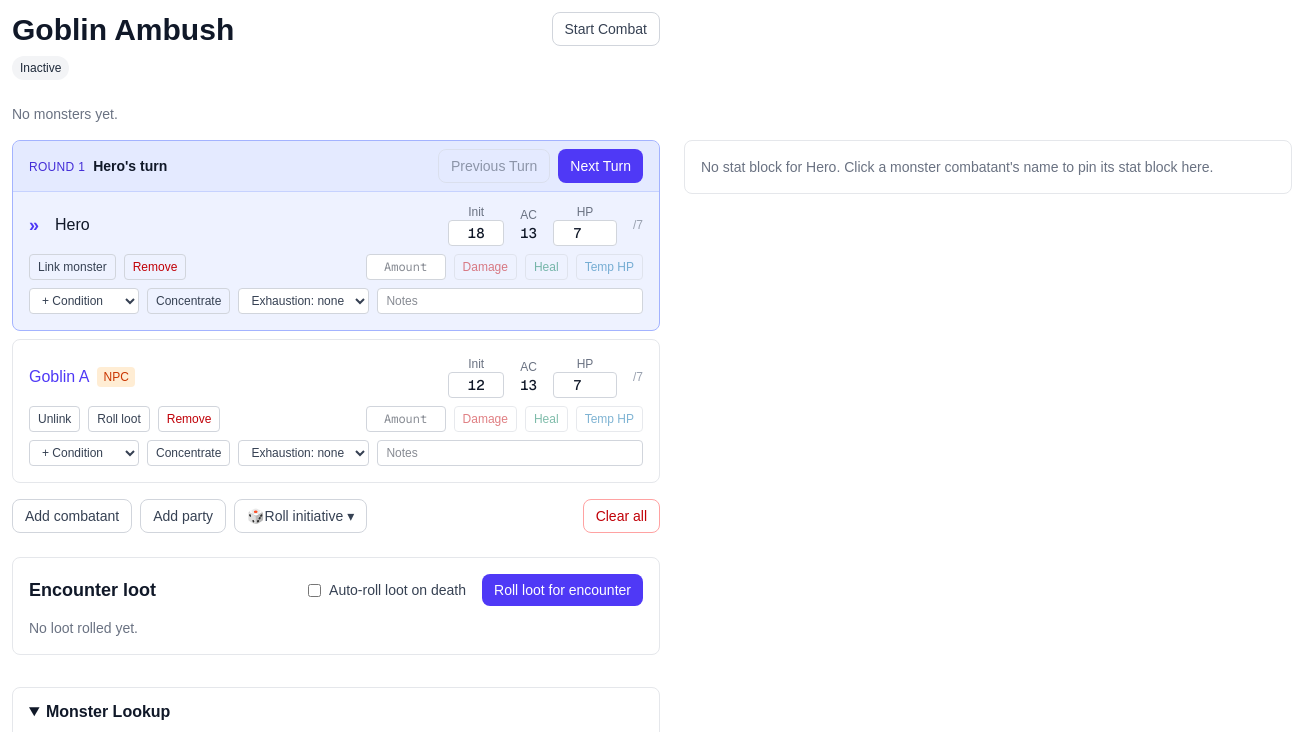
Test case: live-combat layout (VEG-384) › peeks a card as a quick reference without changing the turn, and returns on demand
Check: the heading "Goblin Ambush" is shown, box x1=12 y1=12 x2=234 y2=48
Check: the text "quick reference" is not shown
# Peek the goblin's stat block.
Click the button "Goblin A".
click(59, 377)  # box x1=29 y1=365 x2=90 y2=389
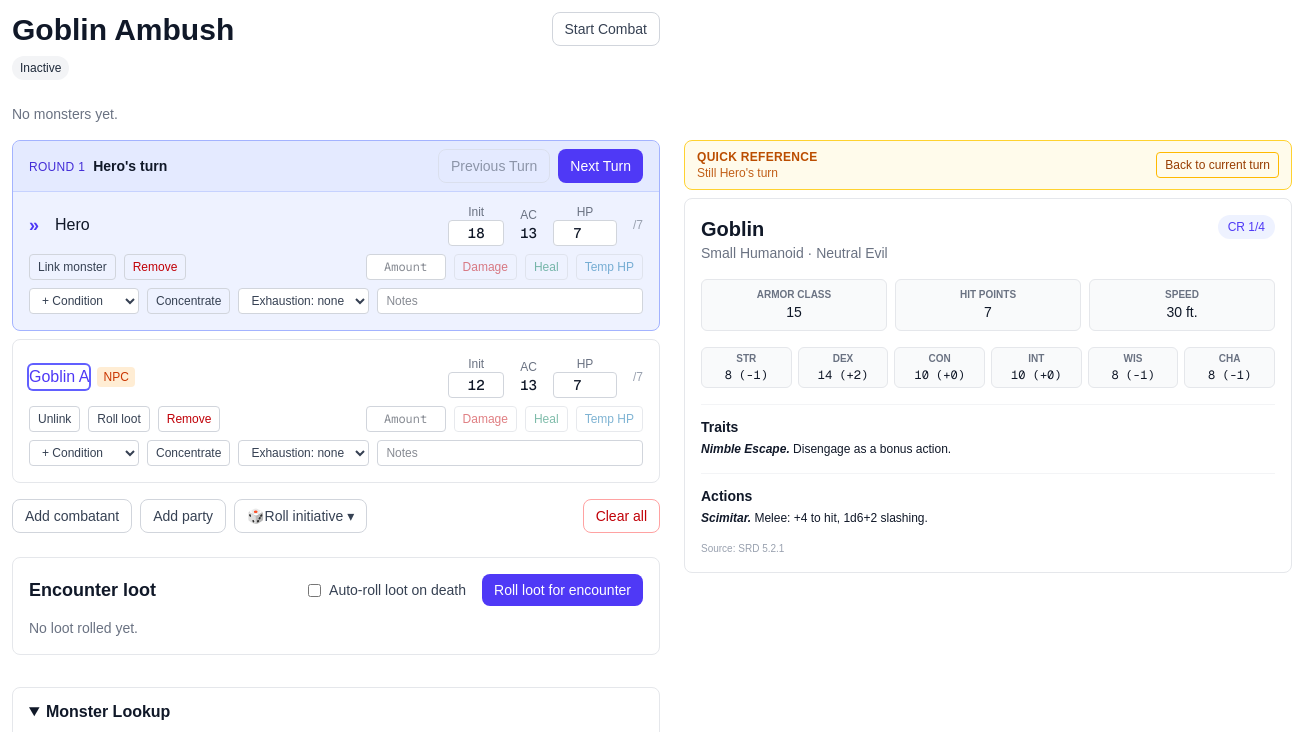
Check: the text "Nimble Escape." is shown, box x1=701 y1=442 x2=790 y2=456
Check: the text "Quick reference" is shown, box x1=697 y1=149 x2=818 y2=165
Check: the text "Still Hero's turn" is shown, box x1=697 y1=166 x2=778 y2=180
# Snap back to the active creature.
Click the button "Back to current turn".
click(1218, 165)  # box x1=1156 y1=152 x2=1279 y2=178
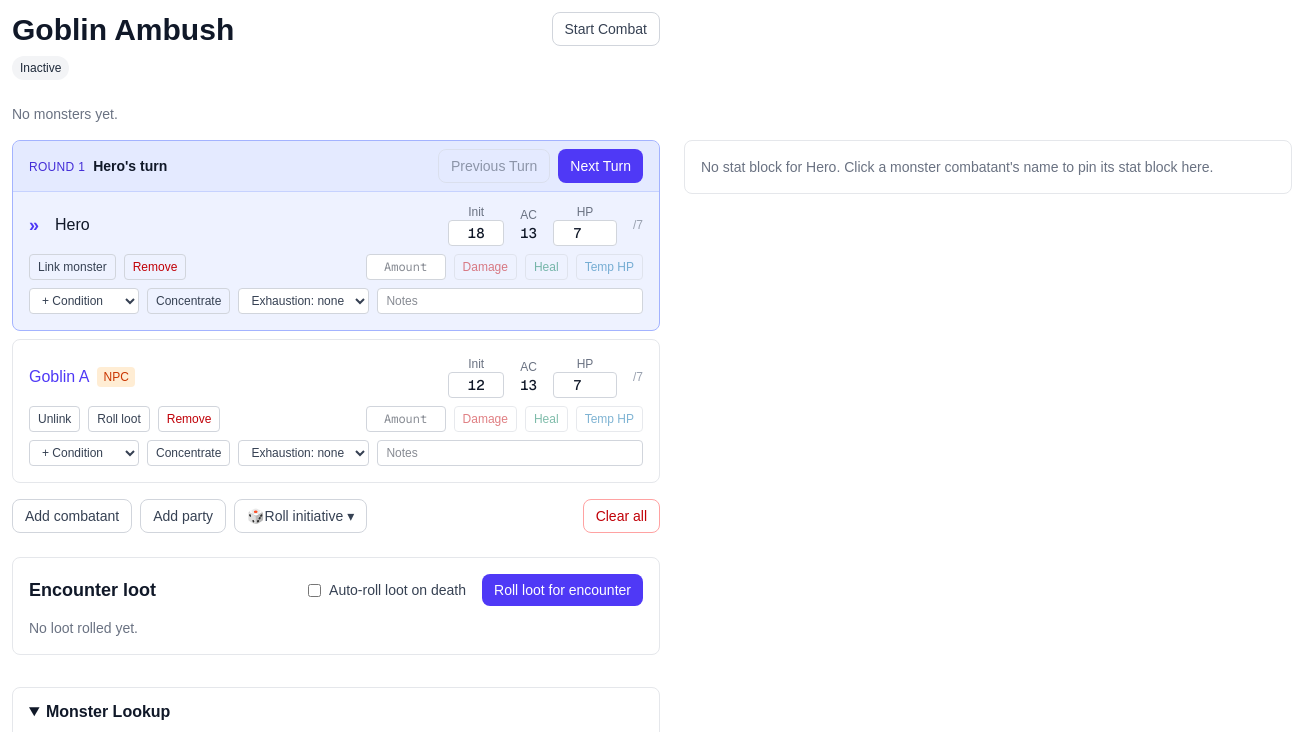
Check: the text "Nimble Escape." is gone
Check: the text "Quick reference" is gone
Check: the text "No stat block for Hero" is shown, box x1=701 y1=157 x2=1275 y2=177
